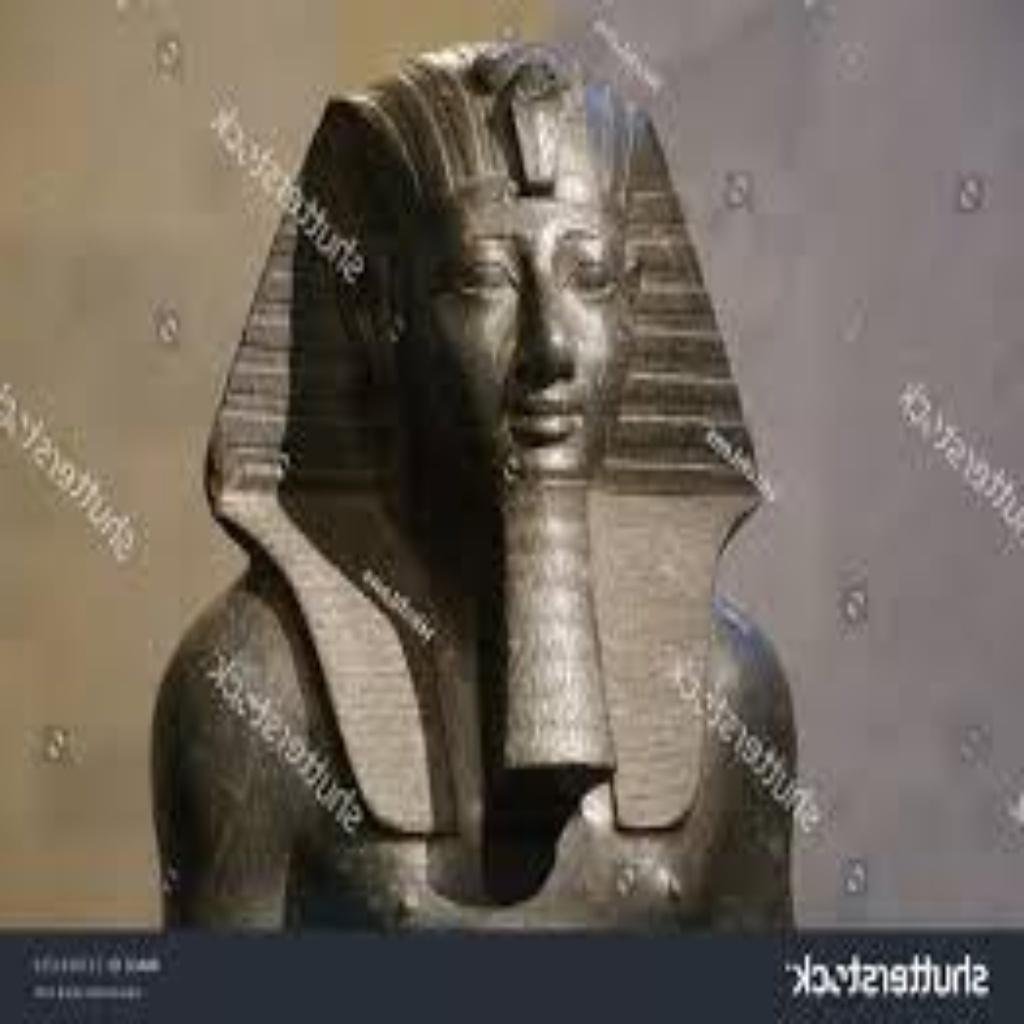King Thutmose III: (148, 38, 800, 934)
